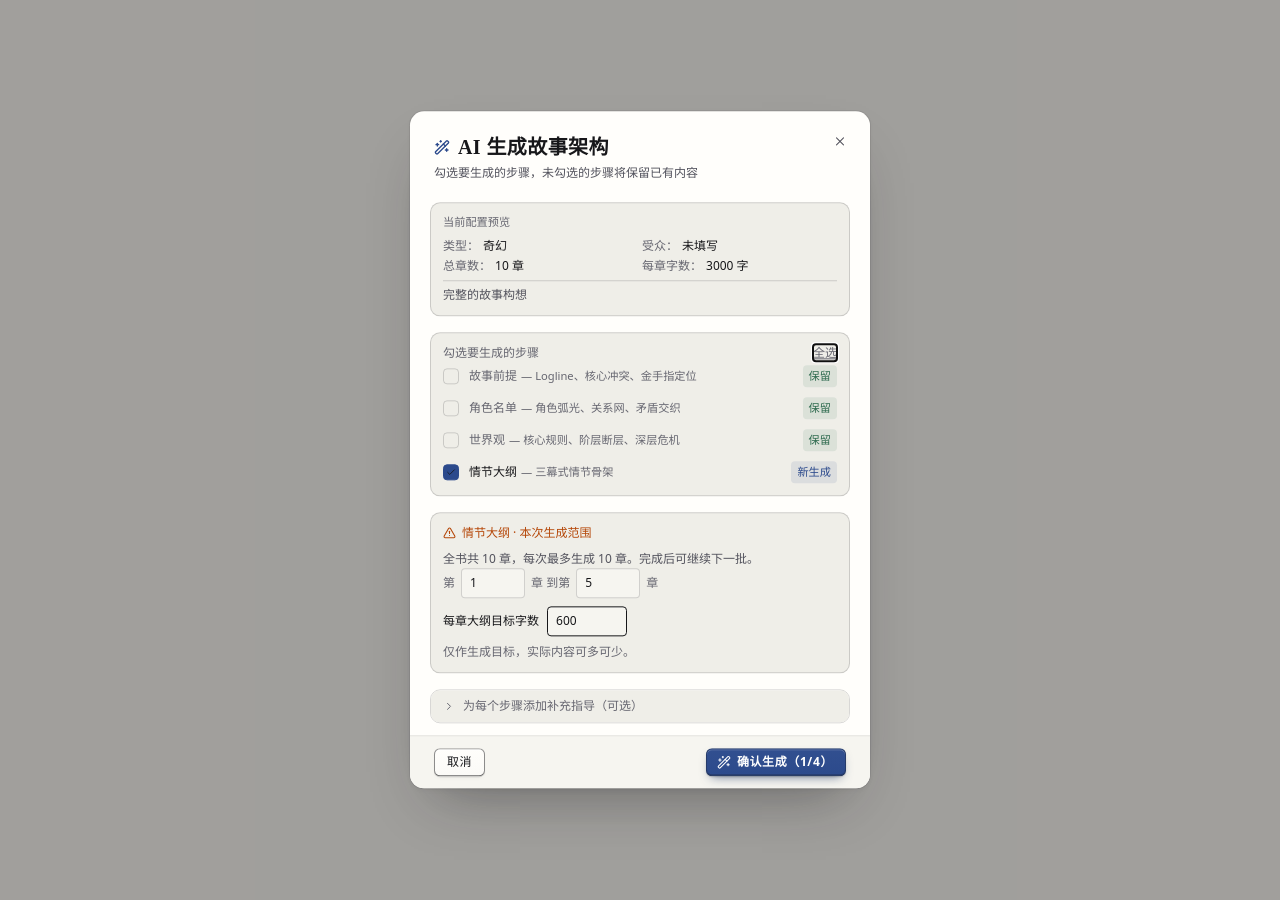
Test: workflow launch dialogs › rejects invalid synopsis range value 0 without falling back to the whole book
In the number field named "本次生成范围的起始章": (493, 584) [461,569,525,599], type "0"
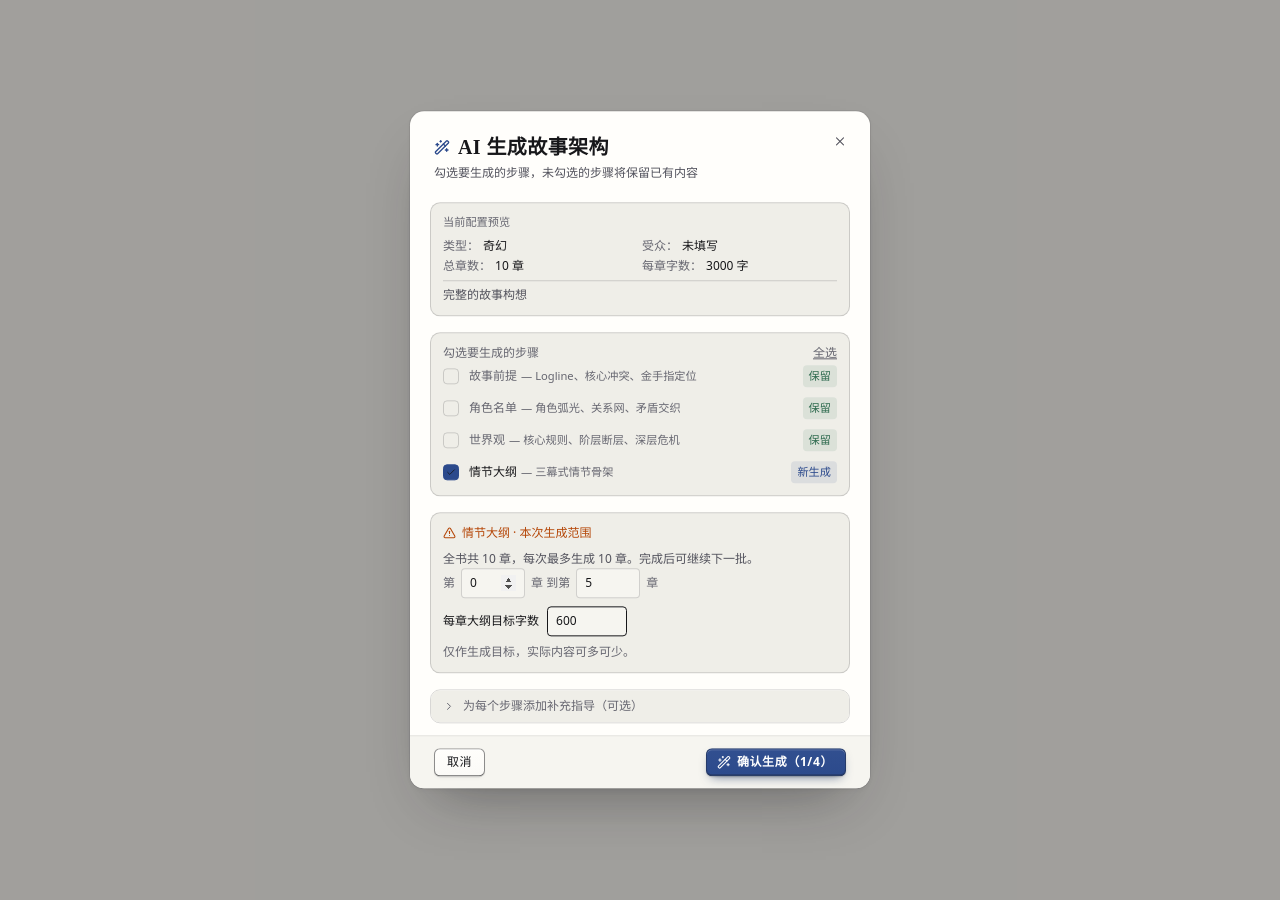
Click the button "确认生成（1/4）": click(776, 763) [706,749,846,777]
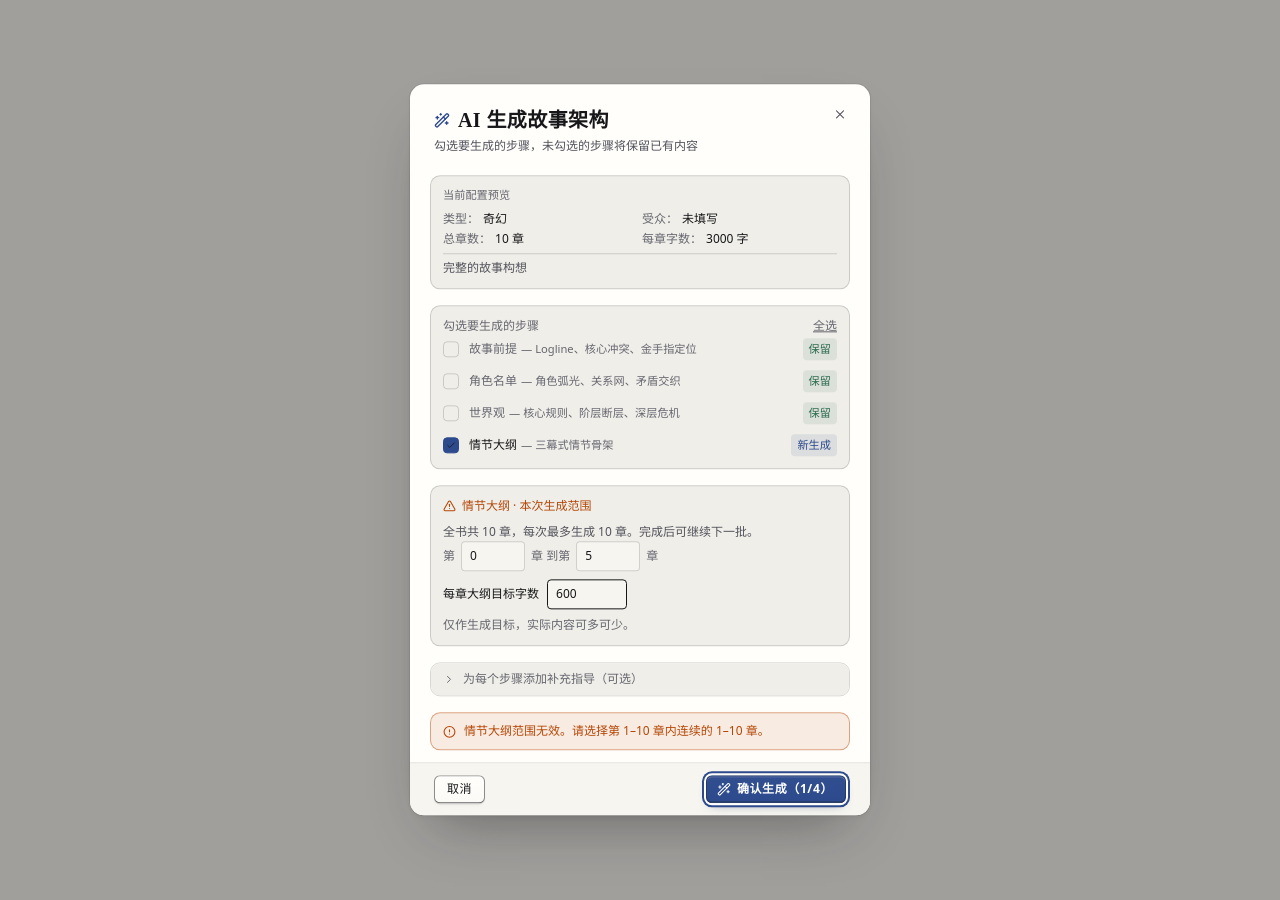
expect the text "情节大纲范围无效。请选择第 1–10 章内连续的 1–10 章。" is shown: met, box [464,724,770,740]
